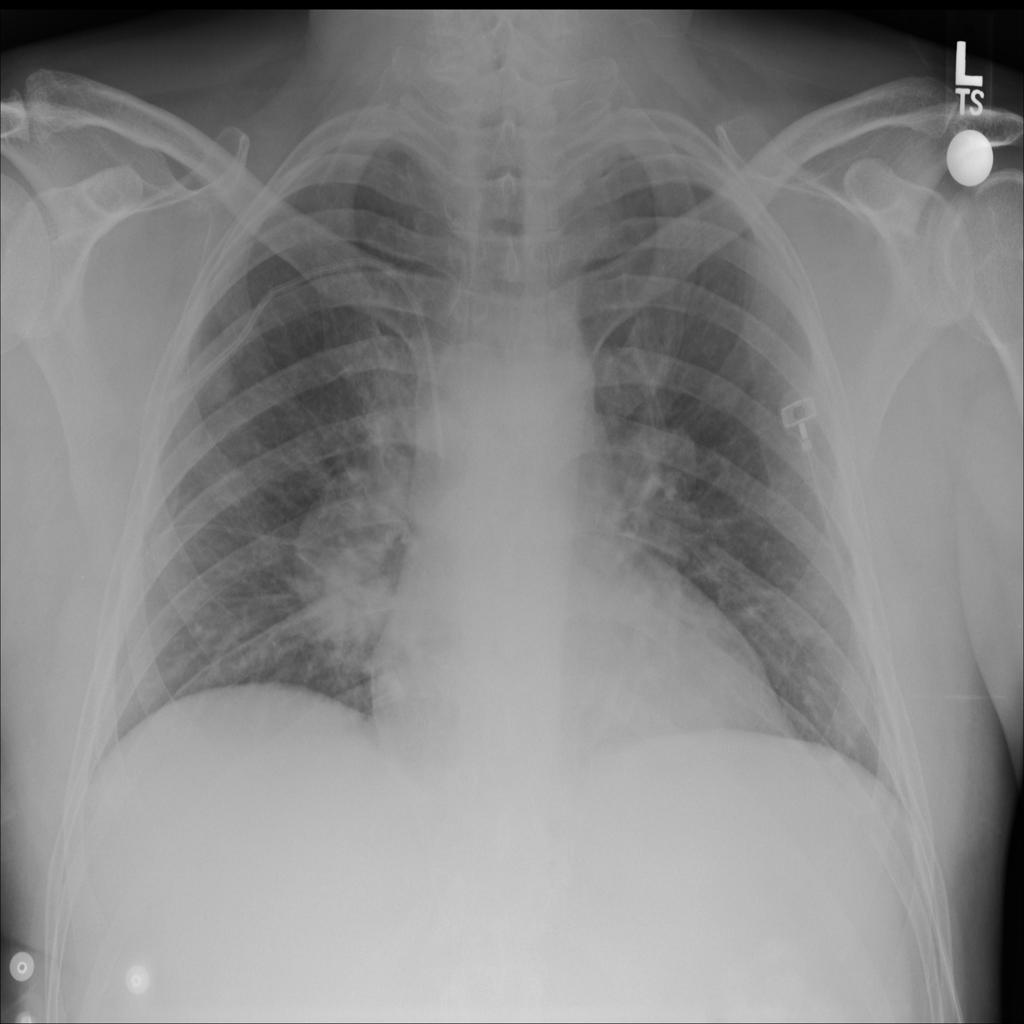nodule: (284, 469, 414, 671), (184, 342, 250, 417)
